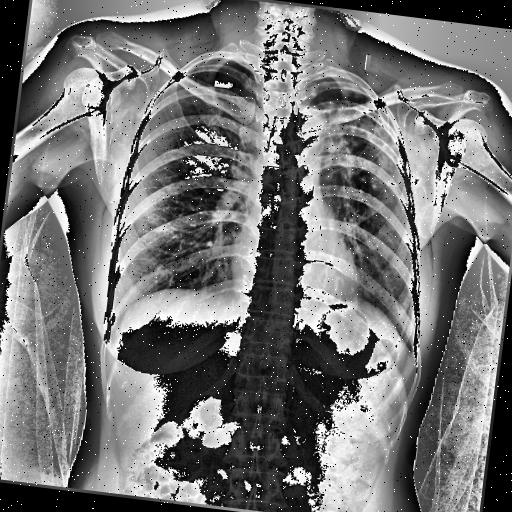13- Pulmonary fibrosis: (309, 88, 411, 190), (317, 86, 413, 193), (316, 140, 378, 256)
6- Infiltration: (292, 68, 424, 193), (309, 88, 411, 190), (317, 86, 413, 193)
